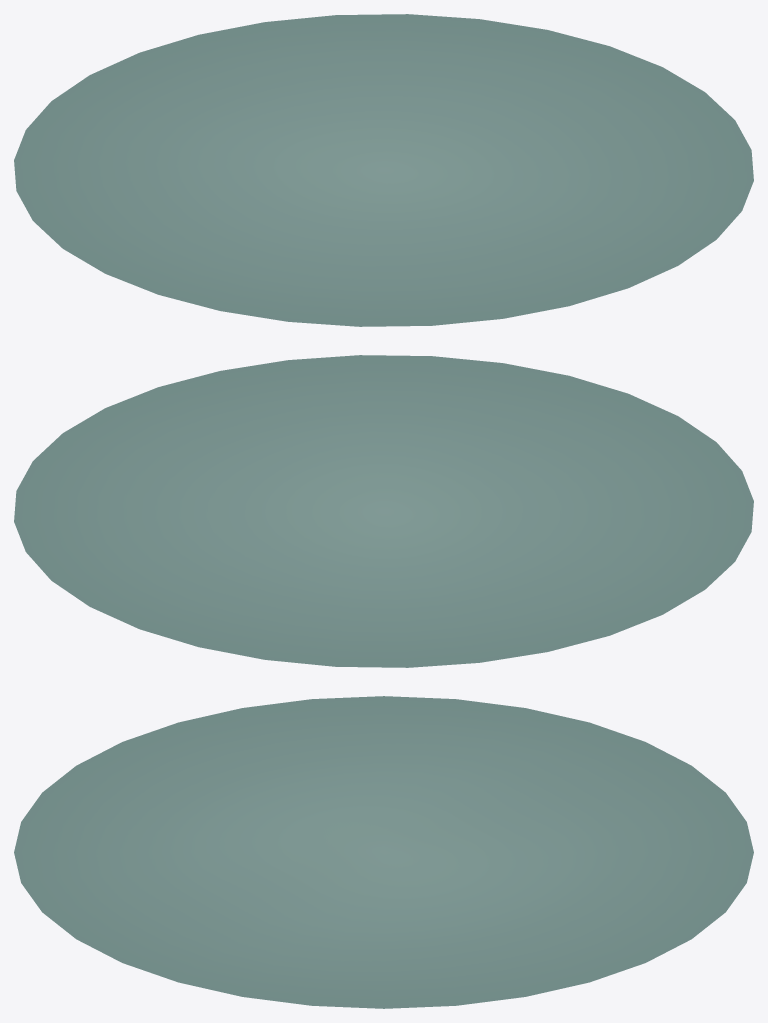
The model's file is water_lagoon_01_mesh_400.glb.
3 renders of one model, top to bottom at view 1: azimuth 30°, elevation 25°; view 2: azimuth 150°, elevation 25°; view 3: azimuth 270°, elevation 25°, orthographic.
Parts seen in each view (by area): view 1: water_lagoon; view 2: water_lagoon; view 3: water_lagoon.
Boxes of the visible parts, <box> form: water_lagoon: <box>14,14,753,326</box>; water_lagoon: <box>14,355,753,667</box>; water_lagoon: <box>14,696,753,1008</box>.
Size of the model in its own units: 24 by 0.0449 by 24.
